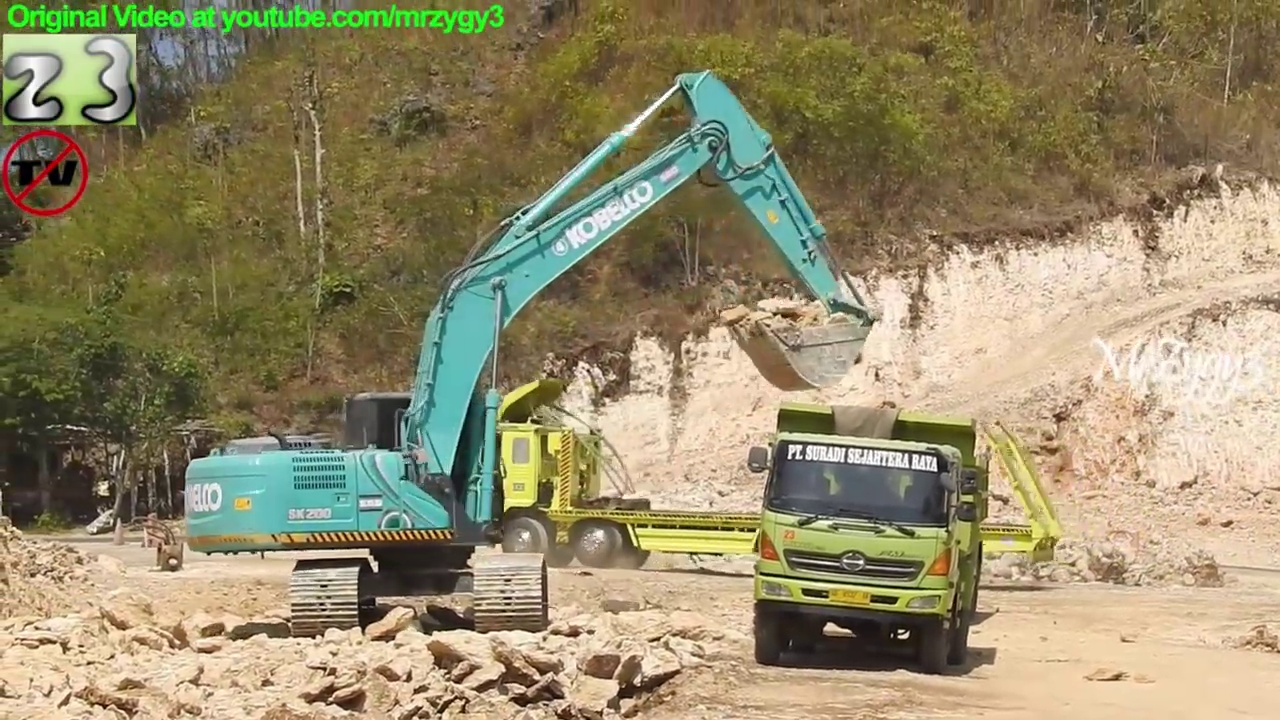excavator: (181, 67, 888, 644)
truck: (436, 371, 1069, 592), (743, 398, 992, 675)
